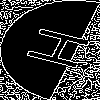H: (25, 25, 100, 75)
